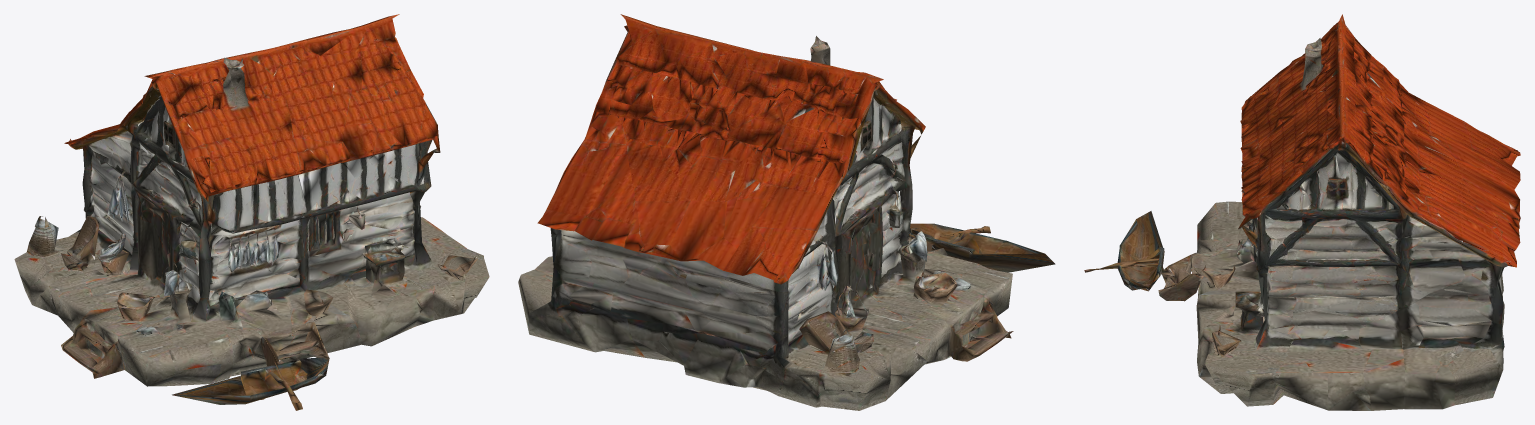
The model's file is fischer.glb.
3 renders of one model, left to right at view 1: azimuth 30°, elevation 25°; view 2: azimuth 150°, elevation 25°; view 3: azimuth 270°, elevation 25°, orthographic. The views are drawn at different scales.
Size of the model in its own units: 1.82 by 1.2 by 1.8.
1 material, 1 textured.
